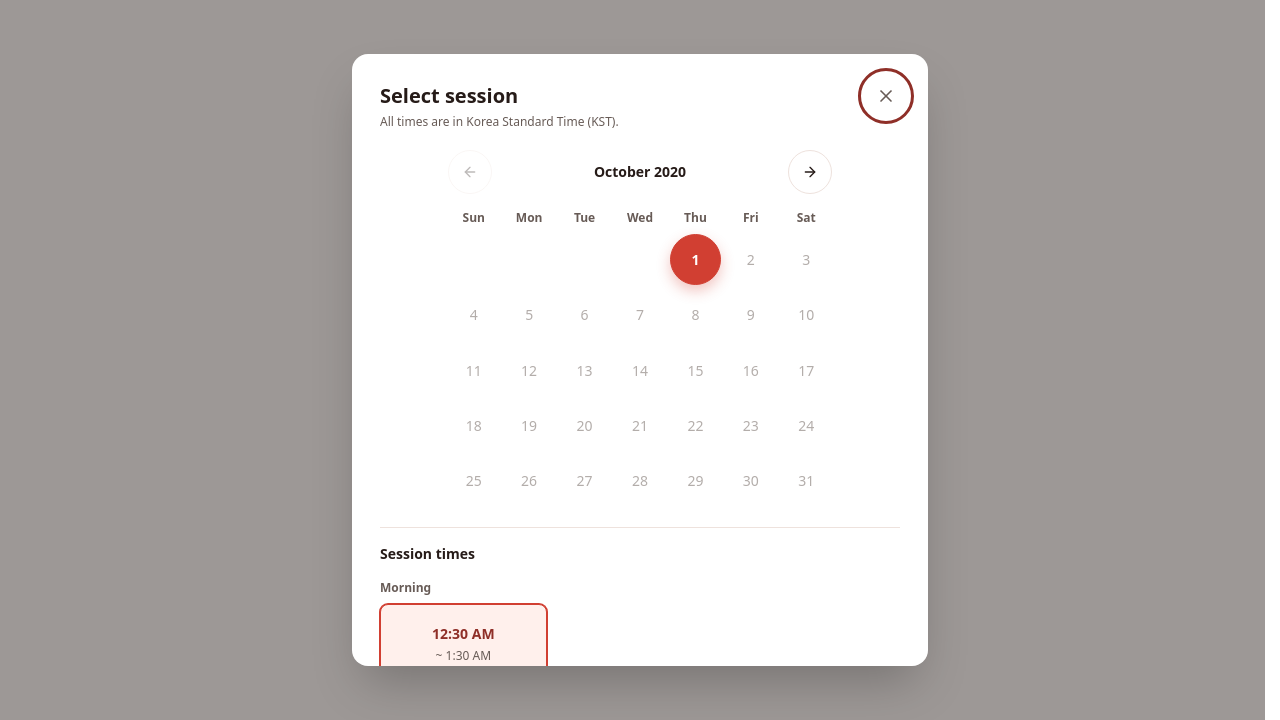
BuddySessionCalendarDialog › opens at the current KST session date and allows past, full and cancelled sessions
Expected: the text "October 2020" is shown, [594, 162, 686, 182]
Expected: the button "12:30 AM ~ 1:30 AM" is enabled, [380, 604, 547, 666]
Click the button "12:30 AM ~ 1:30 AM" at (463, 644), box [380, 604, 547, 684]
(page scrolled)
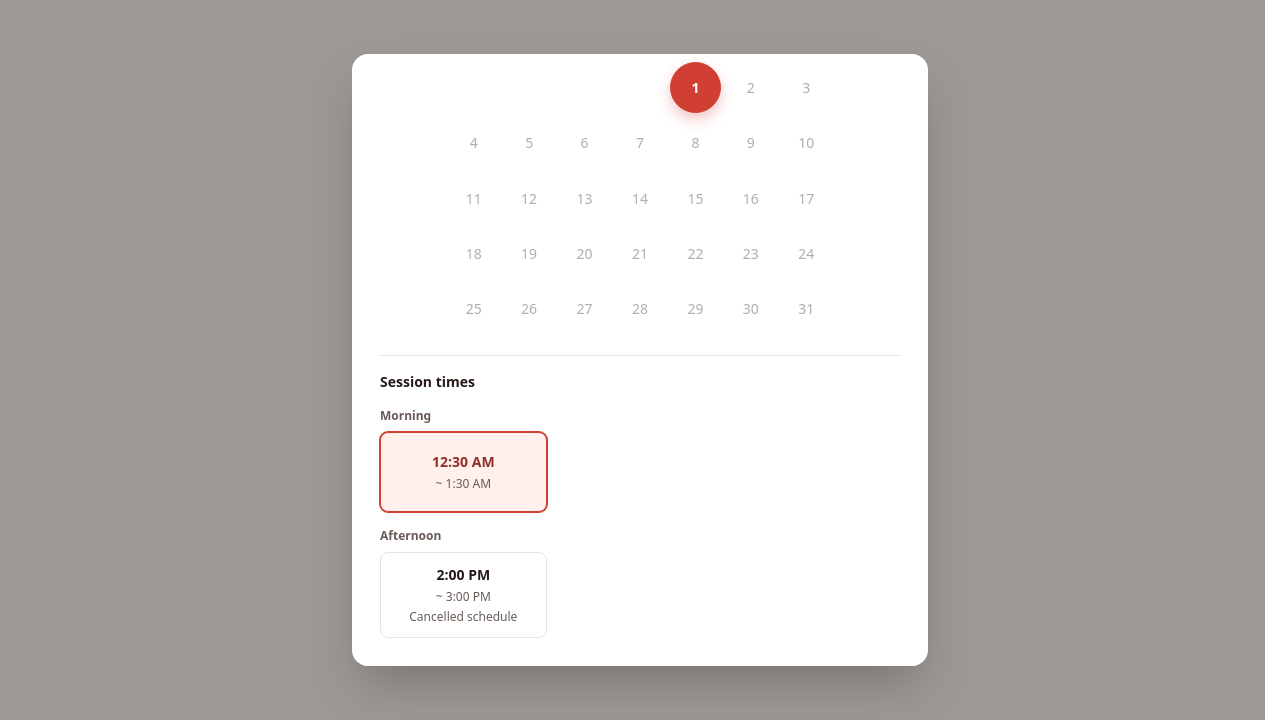
Click the button "2:00 PM ~ 3:00 PM Cancelled schedule" at (463, 595), box [380, 552, 547, 638]
(page scrolled)
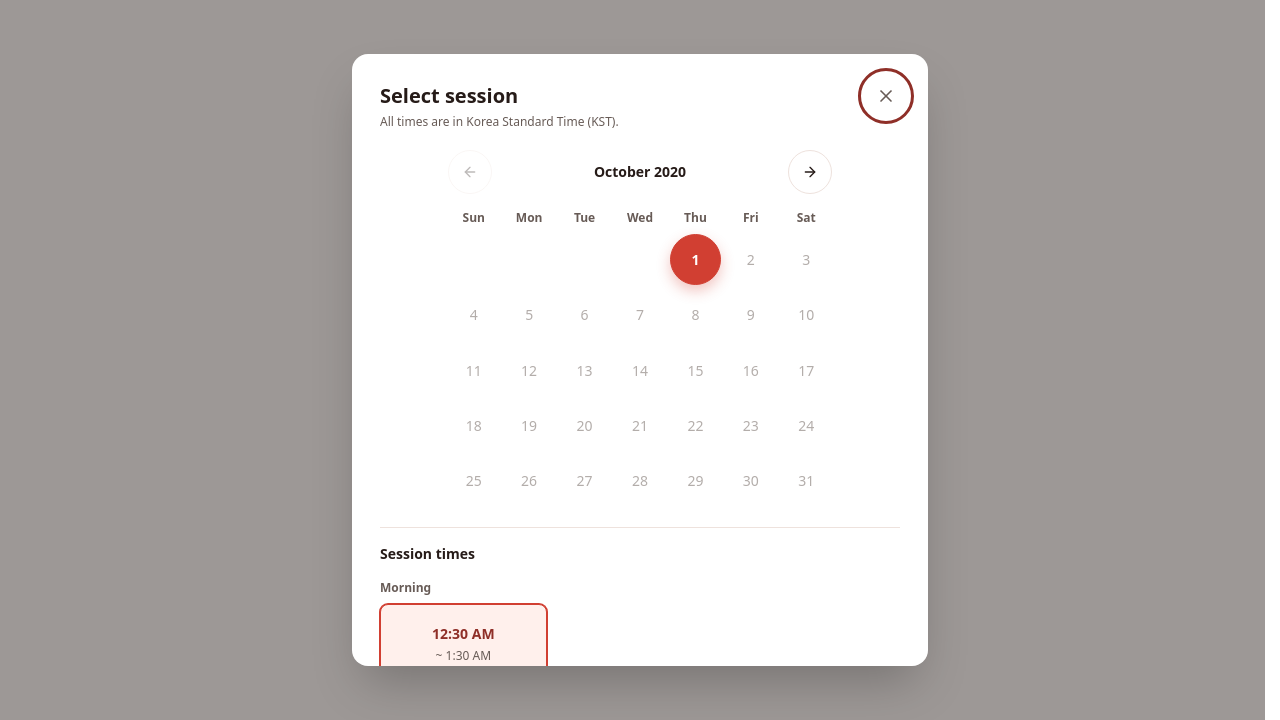
Expected: the button named "Previous month" is disabled, [448, 150, 492, 194]
